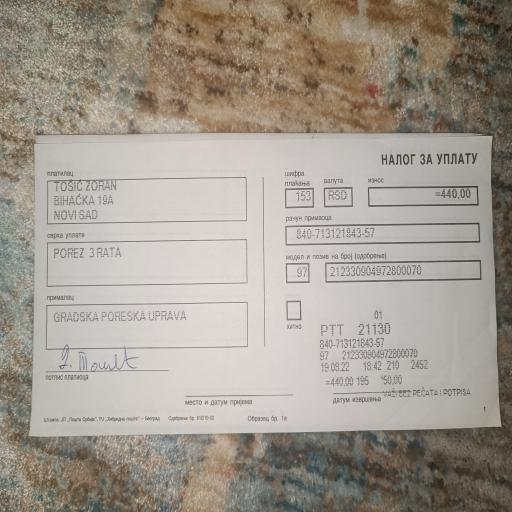svrha_uplate: (47, 231, 246, 279)
uplatnica: (281, 166, 486, 286)
